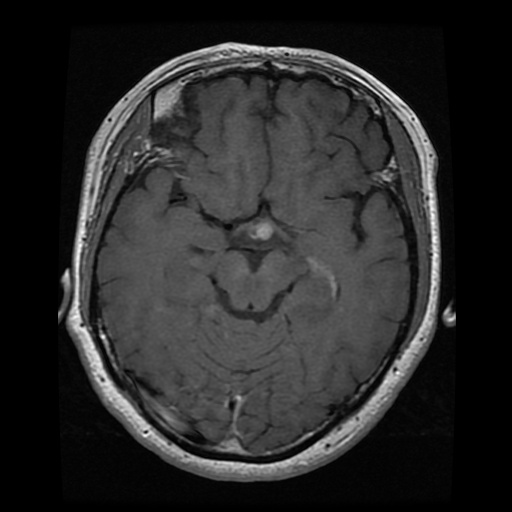pituitary: (247, 220, 276, 241)
